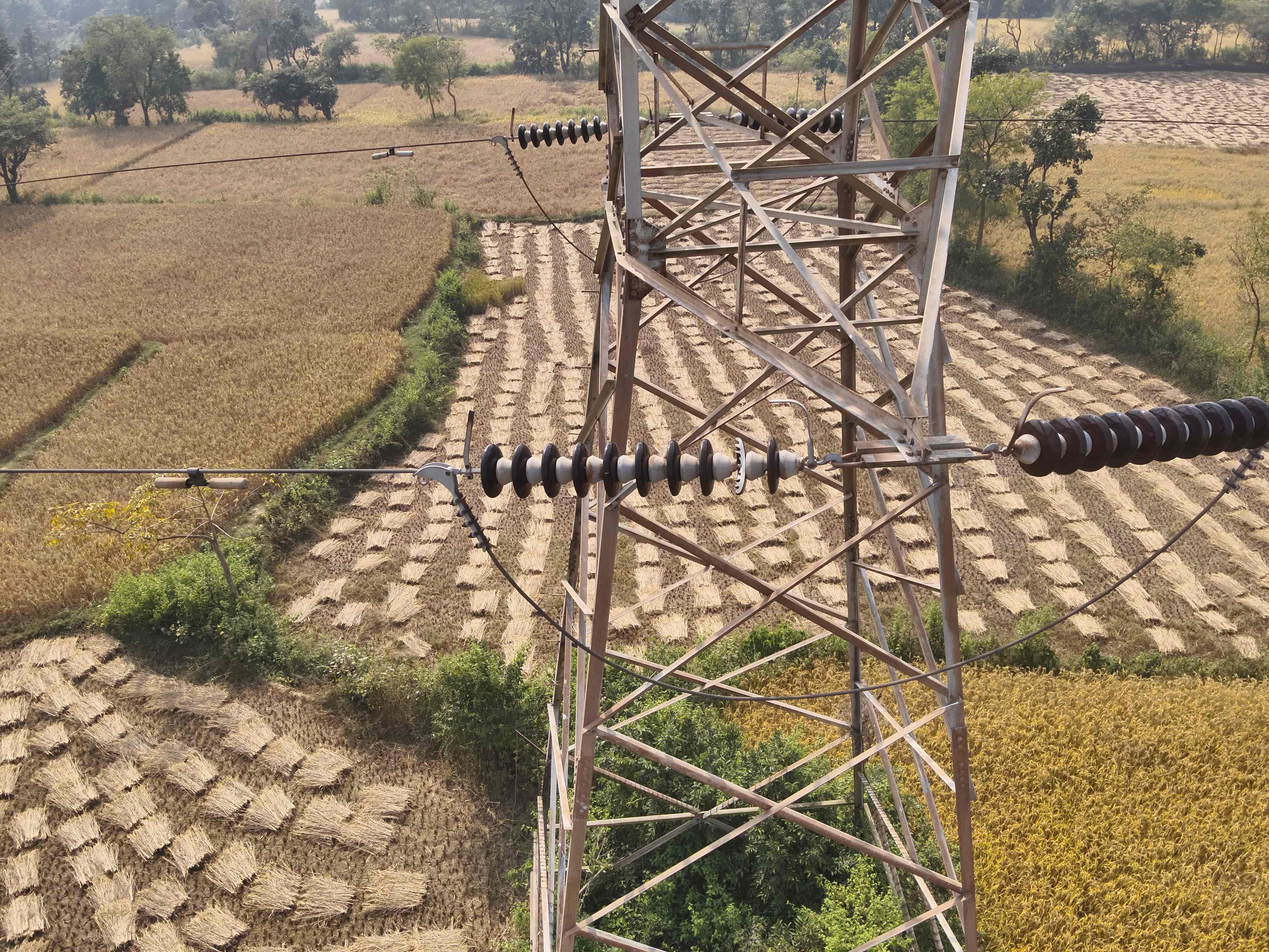broken_insulator: (734, 434, 749, 497)
